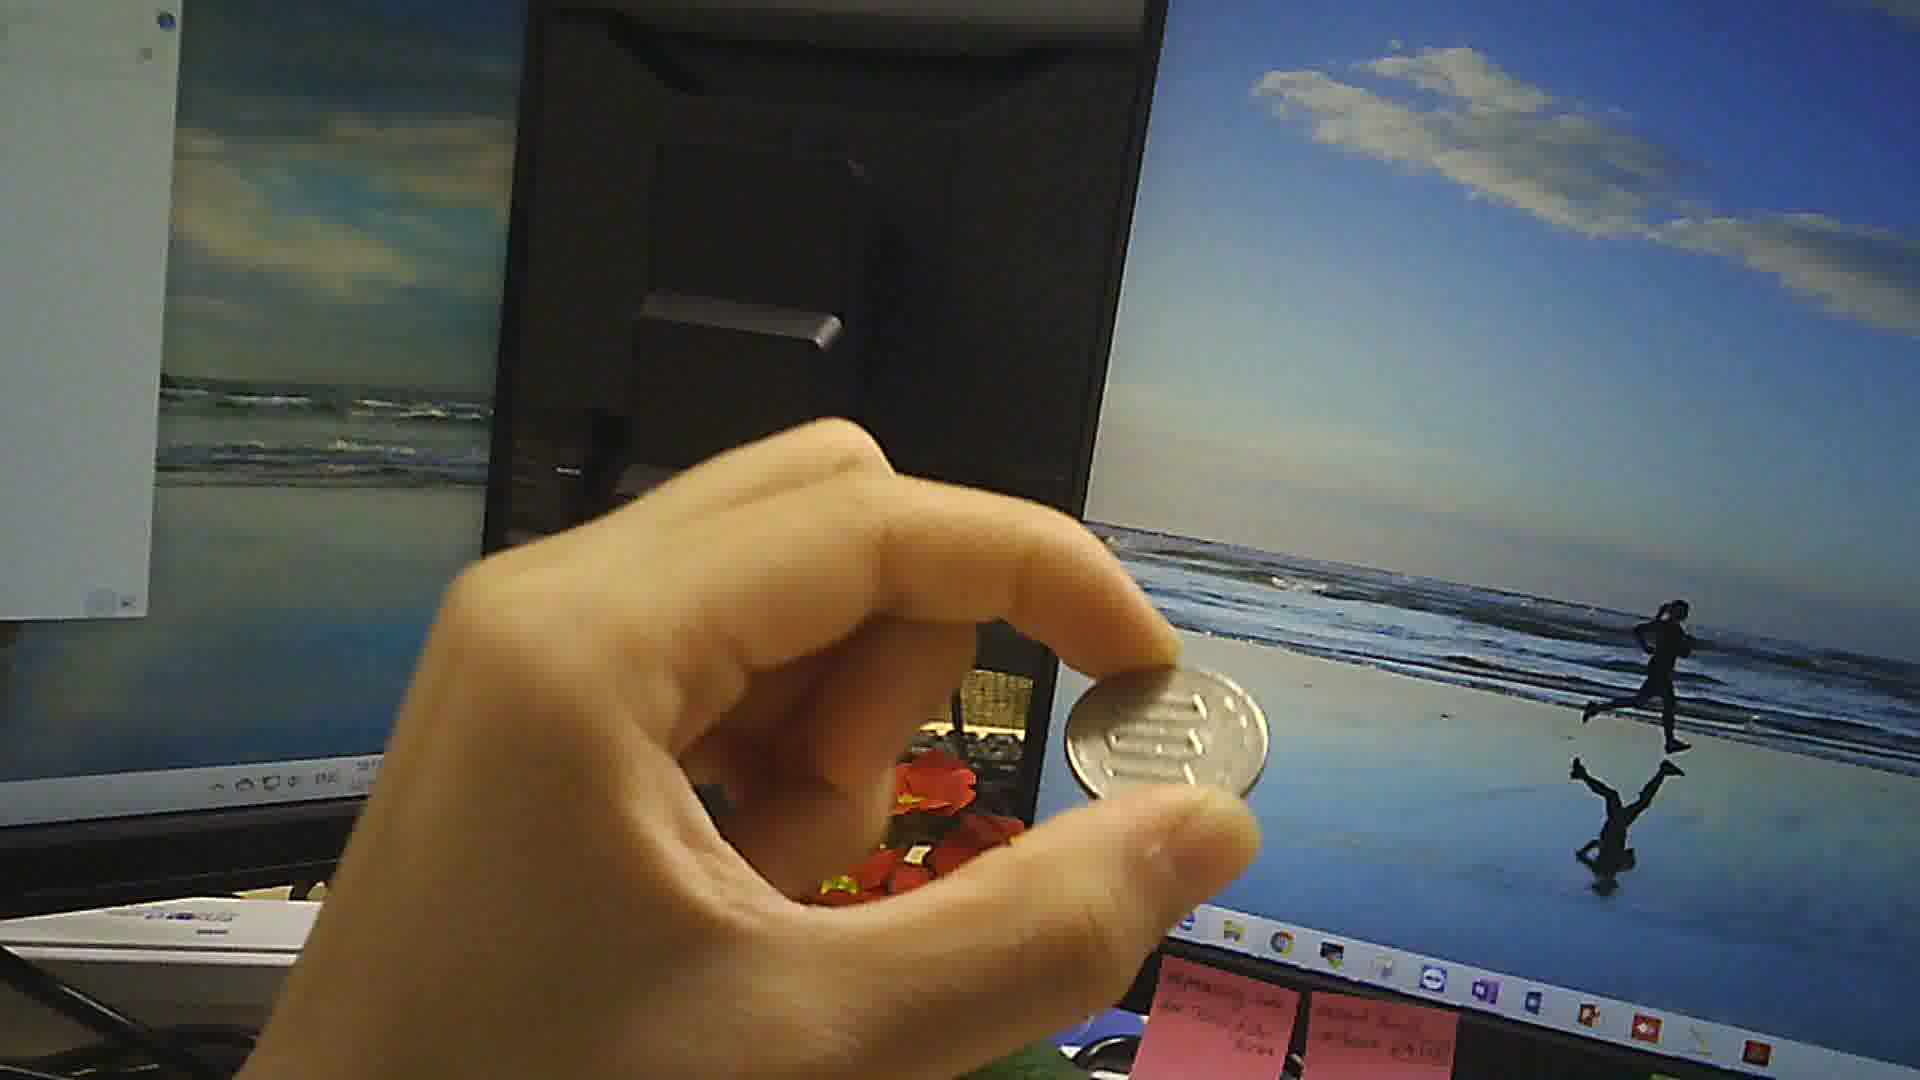100 Yen: (1056, 649, 1262, 811)
